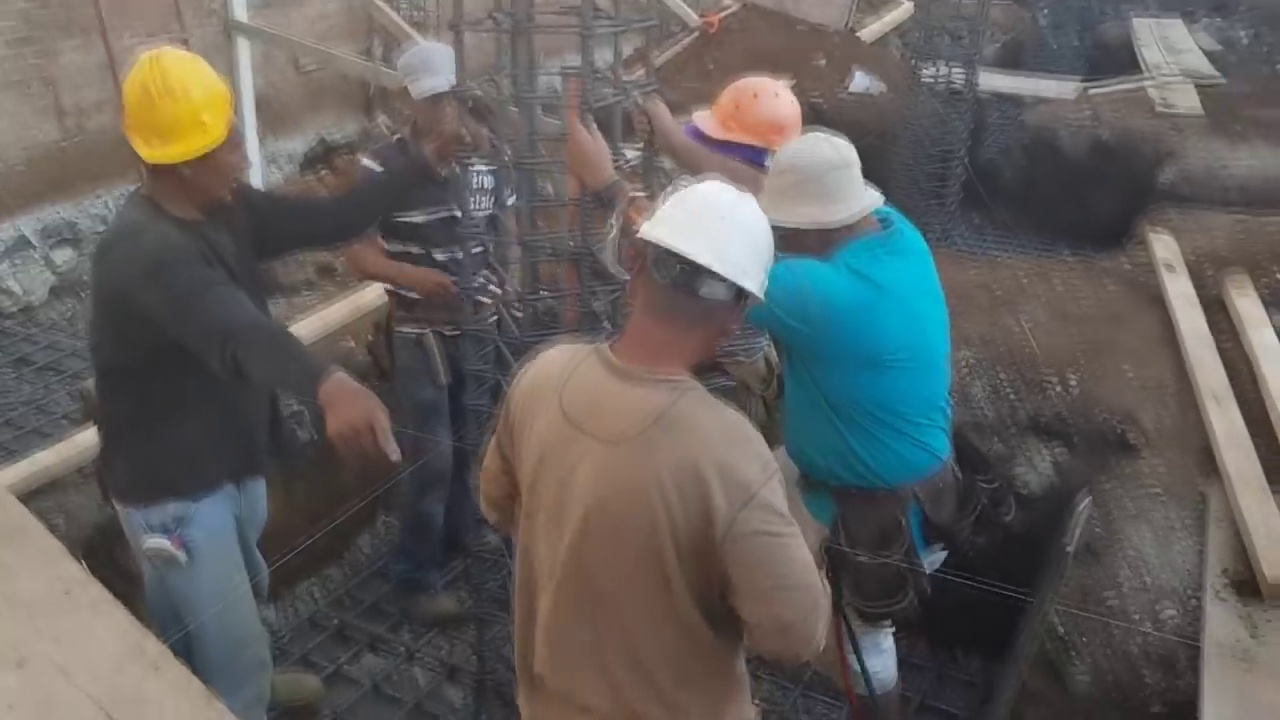helmet: (631, 179, 779, 307), (106, 44, 241, 174), (691, 76, 798, 150)
helmet-off: (759, 130, 890, 271), (388, 33, 473, 164)
helmet-on: (594, 177, 783, 388), (110, 46, 244, 223), (678, 66, 807, 159)
person: (488, 166, 840, 720), (85, 22, 360, 720), (737, 116, 962, 720), (351, 20, 518, 632)
